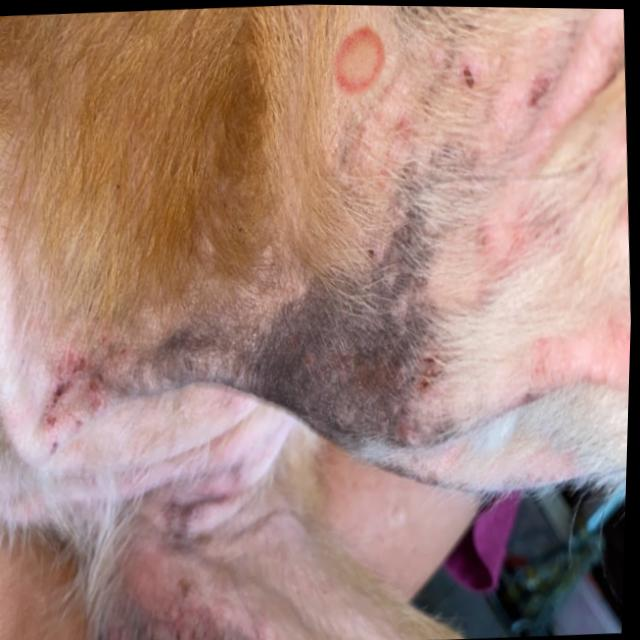ringworm: (318, 9, 409, 112)
